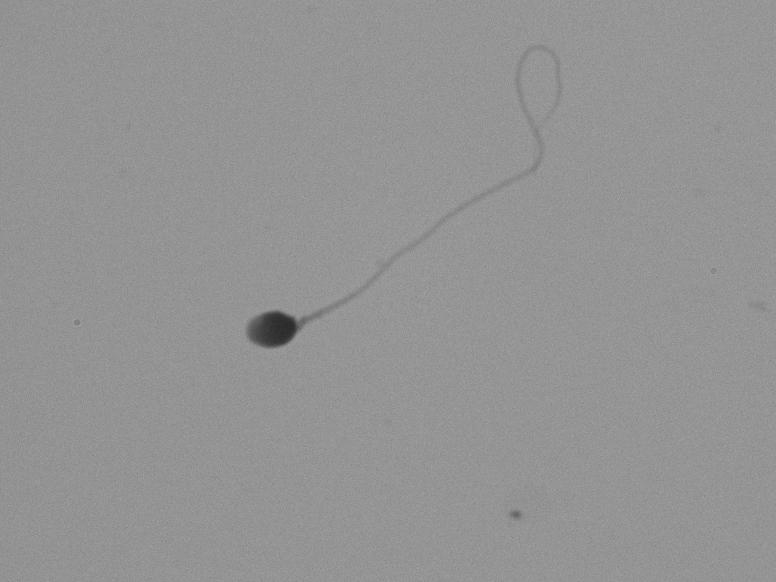Normal: (213, 36, 572, 453)
